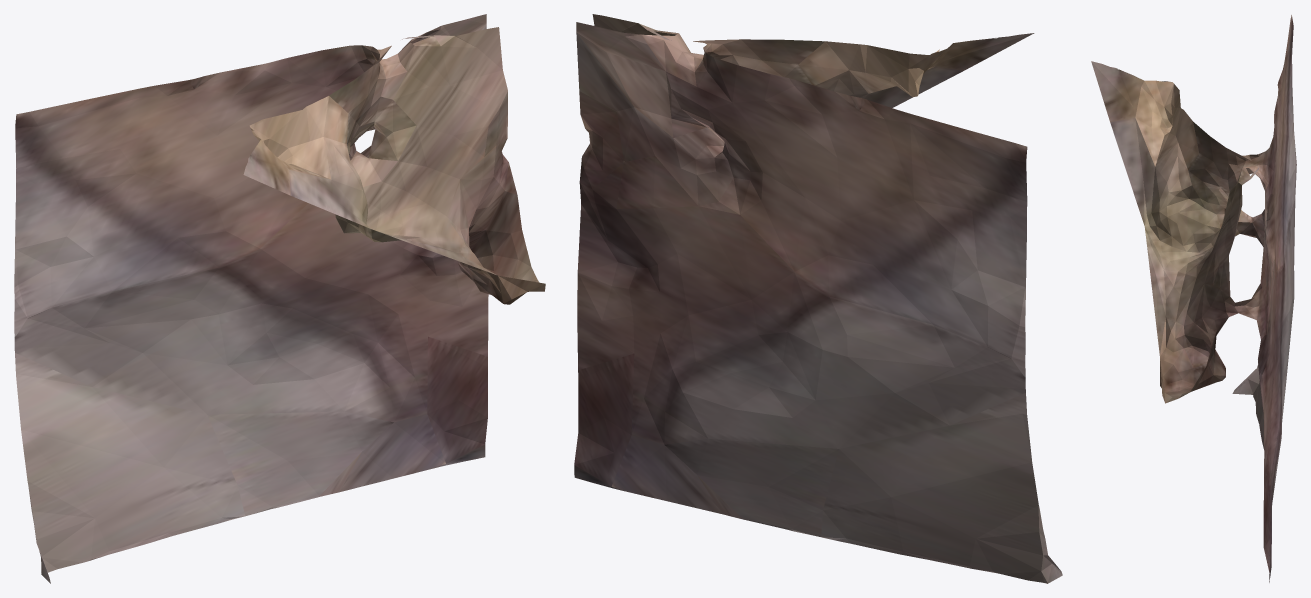
File: tile_15_12.obj
3 views of the same model, side by side, from view 1: azimuth 30°, elevation 25°; view 2: azimuth 150°, elevation 25°; view 3: azimuth 270°, elevation 25° (orthographic). The views are drawn at different scales.
Visible parts, largest first — view 1: texture_0; view 2: texture_0; view 3: texture_0.
Part boxes in pixels (x1,y1,x2,y2): texture_0: [14, 14, 545, 583]; texture_0: [574, 14, 1062, 583]; texture_0: [1091, 15, 1296, 582].
Bounding box in the file's own units: 13.88 × 12.92 × 6.34.
1 material, 1 textured.
